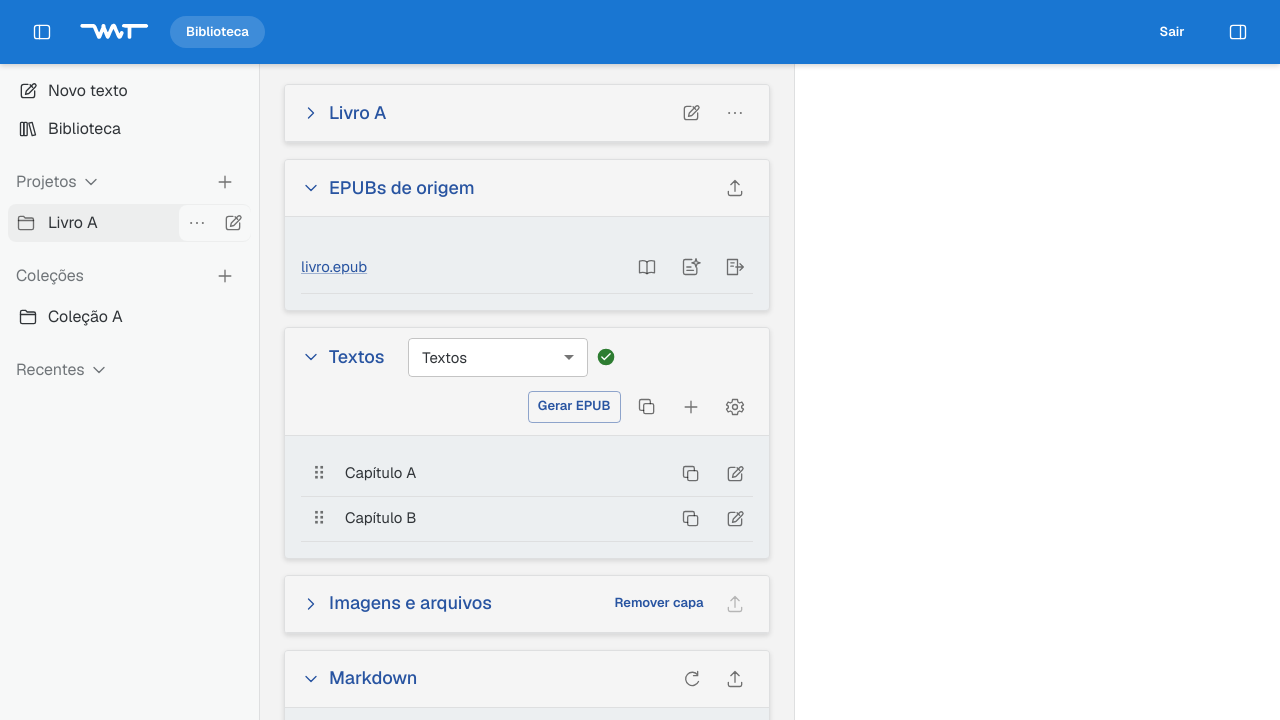
it: refreshes the central chapter list and files after extracting into the current project
The width and height of the screenshot is (1280, 720).
Check: the button "EPUBs de origem" is shown, box [301,176,475,200]
Click the button named "Criar textos a partir do EPUB original" at (735, 267), box [717,249,753,285]
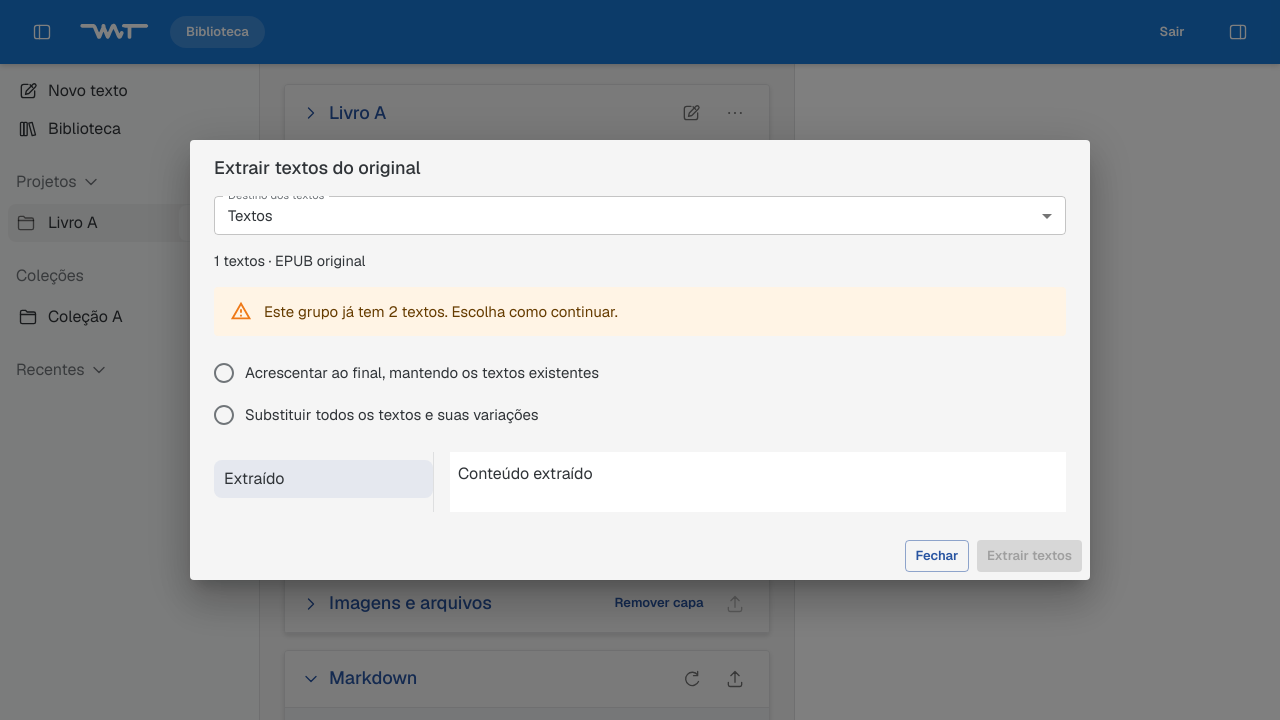
Click the radio button labelled "Acrescentar ao final, mantendo os textos existentes" at (406, 373), box [212,361,599,385]
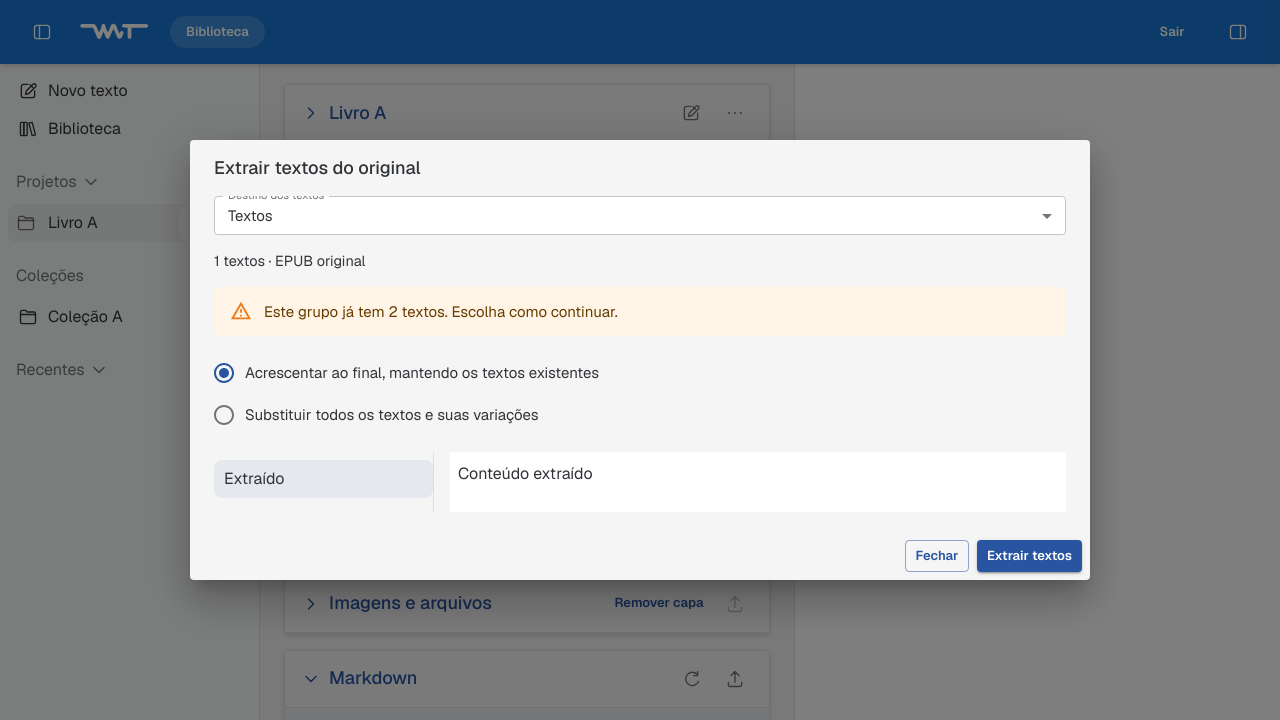
Click the button "Extrair textos" at (1029, 556), box [977,540,1082,572]
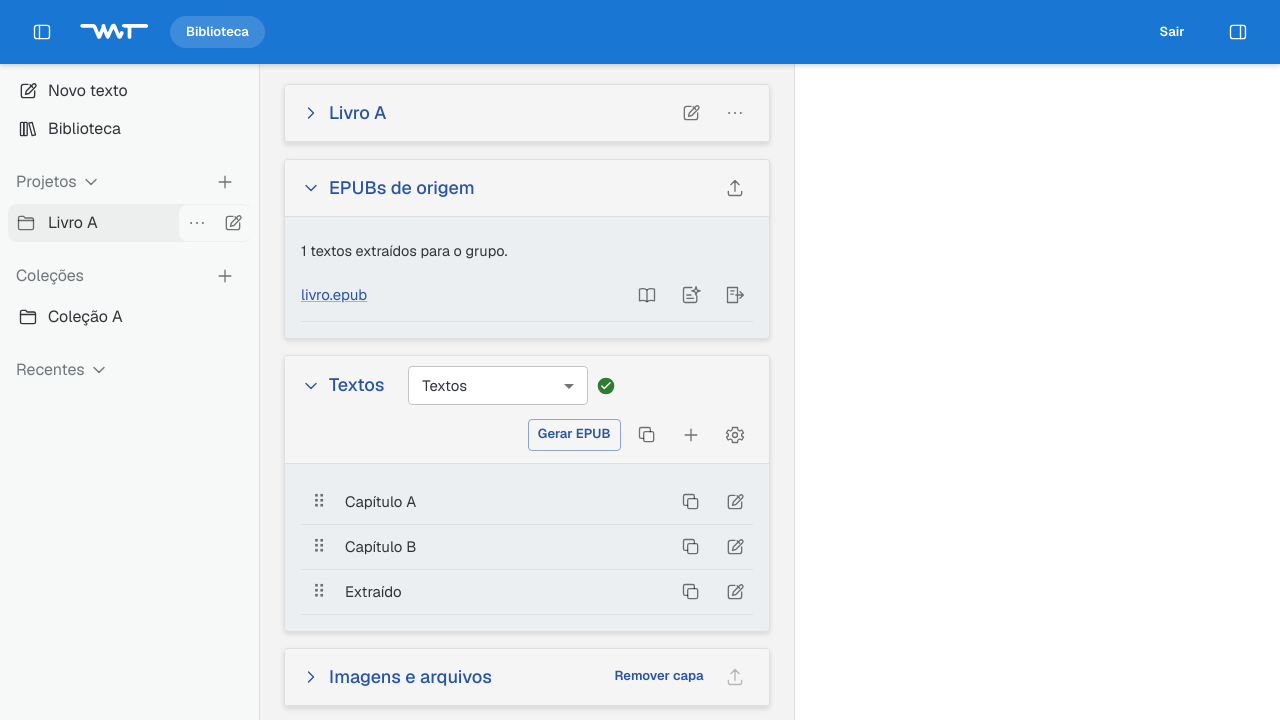
Check: the dialog is gone
Click the button "Imagens e arquivos" at (396, 677), box [301,665,492,689]
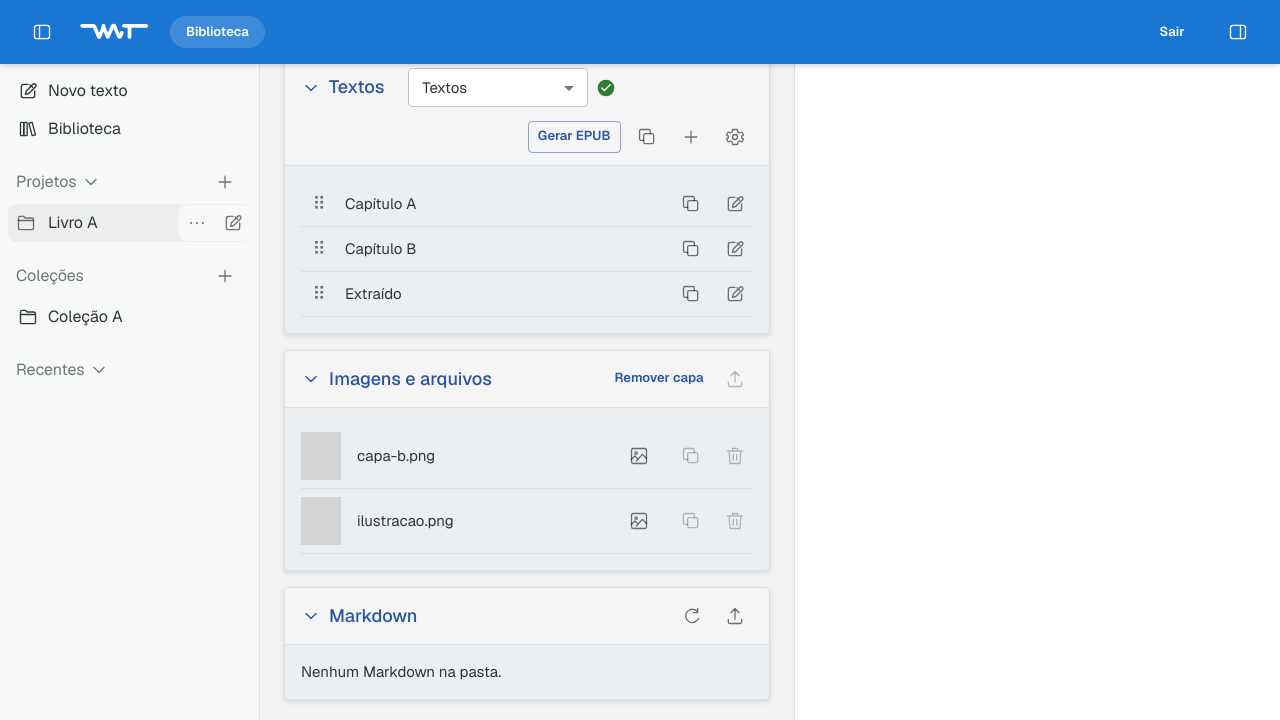
Check: the link "ilustracao.png" is shown, box [357,511,454,530]
